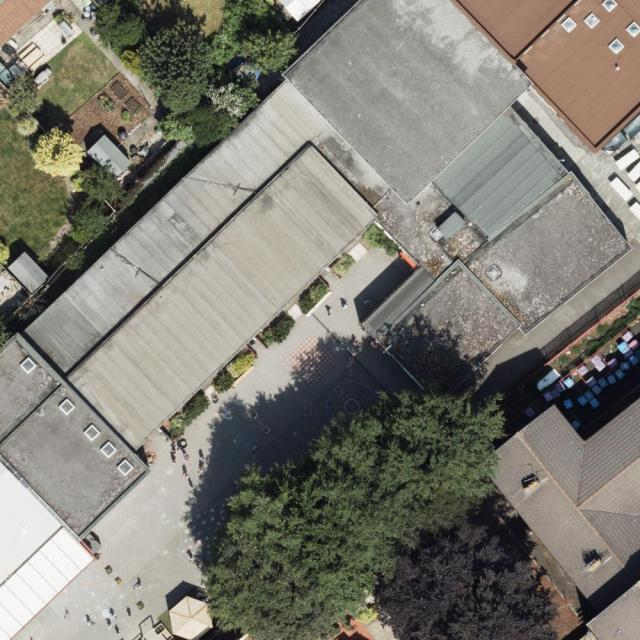roof: (0, 0, 640, 640), (475, 395, 640, 640), (0, 0, 52, 50)
skylight: (80, 423, 100, 443), (57, 396, 76, 417), (98, 440, 117, 459), (20, 353, 37, 374), (560, 15, 578, 34), (608, 37, 626, 55), (115, 459, 134, 476), (584, 11, 601, 29), (625, 22, 640, 39), (600, 0, 617, 13)
